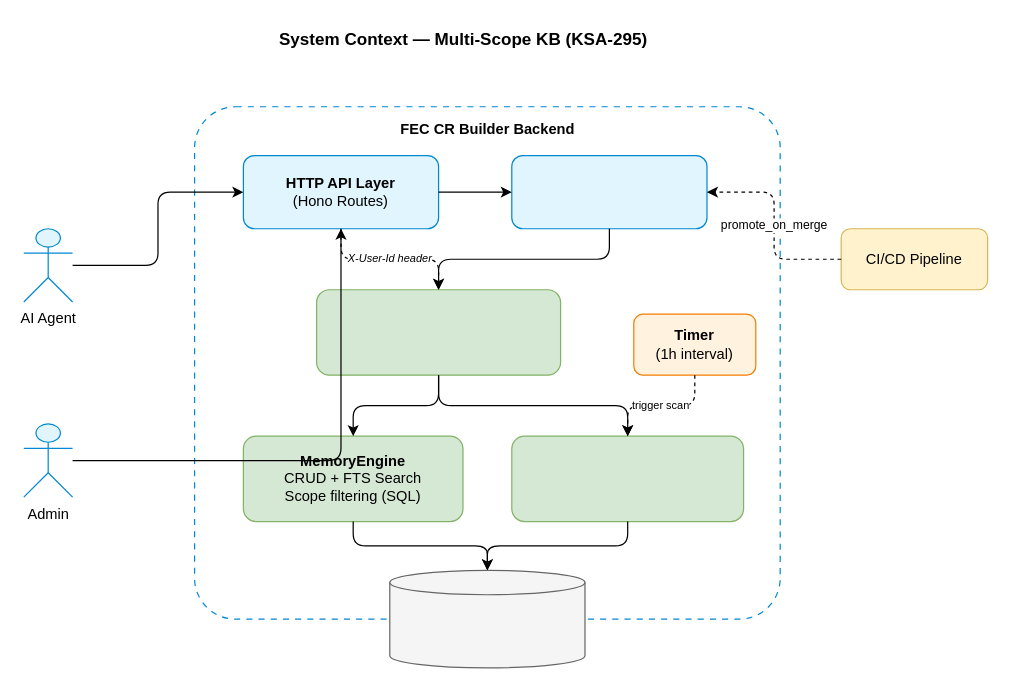
Some shapes in this 1009 by 689 pixel diagram are drawn without their labels. The centre of each missing label's shape, as x and y in pixels:
"MemoryToolDispatcher mem_* tool handler Scope context injection" belongs at (438,332).
"ScopePromotionService Scan + Queue + Approve Auto-promote on merge" belongs at (627,478).
"SQLite DB knowledge_entries kb_promotion_queue" belongs at (487,618).
"Tool Router (ToolRouter)" belongs at (609,191).
